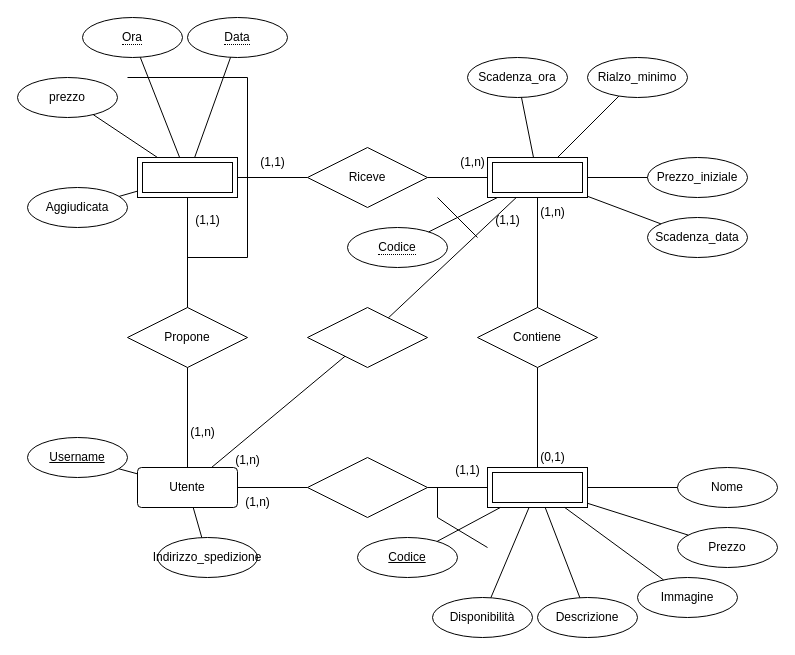
Some shapes in this 795 by 655 pixel diagram are drawn without their labels. The centre of each missing label's shape, as x and y in pixels:
Articolo: (x=537, y=487)
Asta: (x=537, y=177)
Crea: (x=367, y=337)
Offerta: (x=187, y=177)
Possiede: (x=367, y=487)
